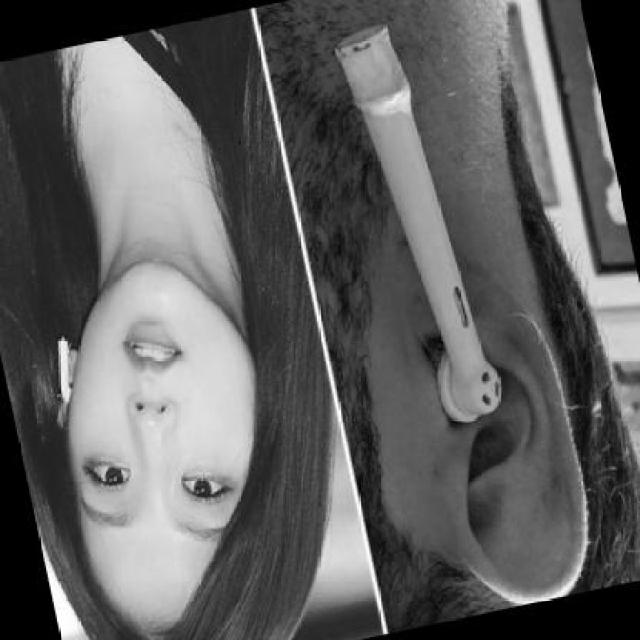earphone: (313, 7, 528, 443), (40, 314, 86, 424)
